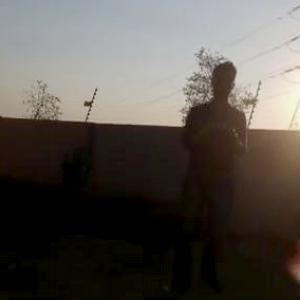follow: (164, 57, 248, 288)
